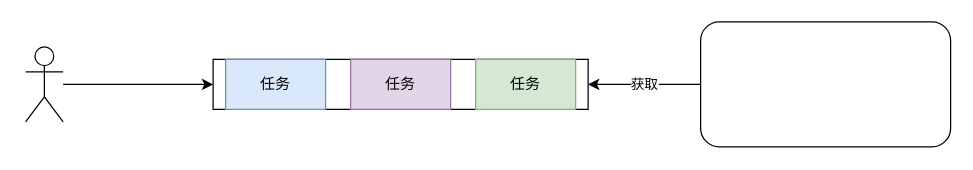
Image size: 973x170. Some labels were removed from this diagram. The shapes that lost their labels are listed below. From the top down, each one's centre as x and y in pixels, then its label:
At (x=43, y=84): "生产者".
At (x=825, y=84): "线程池".
